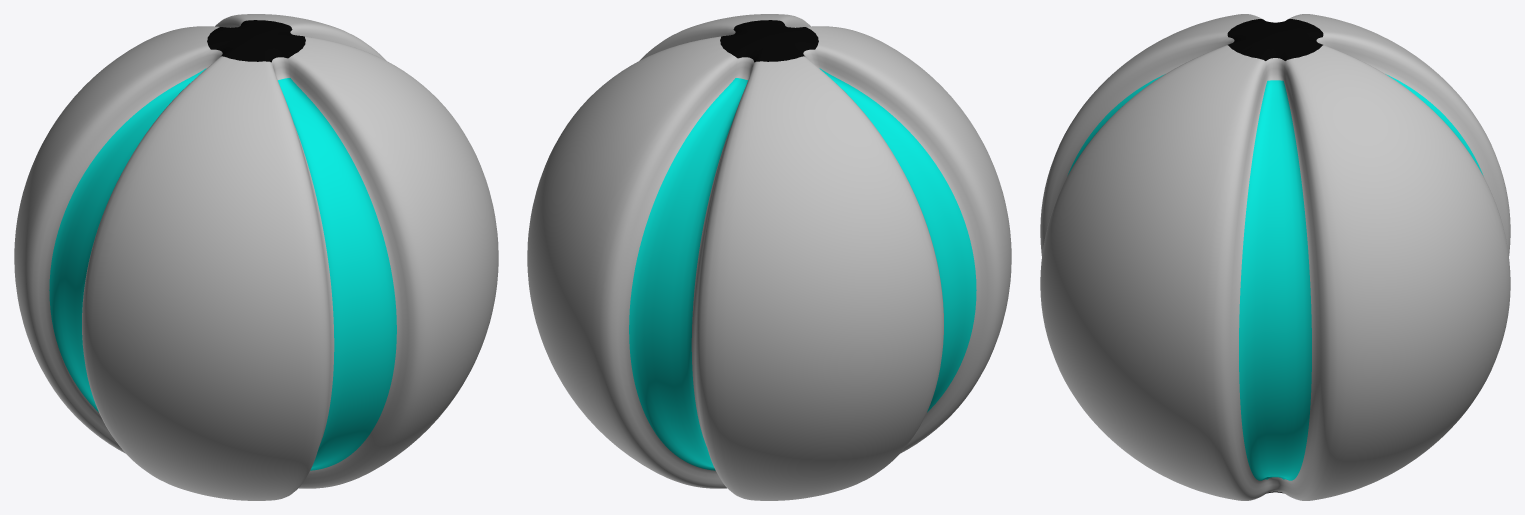
Rendered from Sharic 3.0.fbx.
3 views of the same model, side by side, from view 1: azimuth 30°, elevation 25°; view 2: azimuth 150°, elevation 25°; view 3: azimuth 270°, elevation 25° (orthographic).
Parts seen in each view (by area): view 1: Сфера; view 2: Сфера; view 3: Сфера.
Boxes of the visible parts, x1,y1,x2,y2 form: Сфера: [14, 14, 498, 500]; Сфера: [527, 14, 1011, 500]; Сфера: [1040, 14, 1510, 500].
Bounding box in the file's own units: 190 × 200 × 190.
